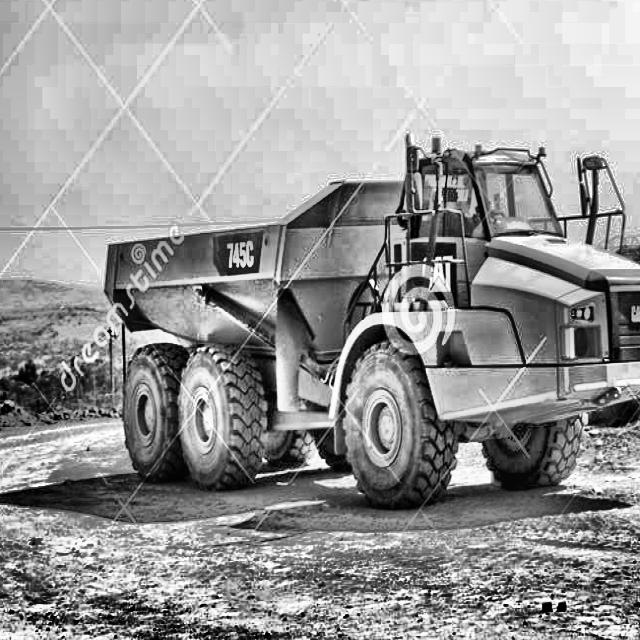dump_truck: (73, 91, 640, 580)
